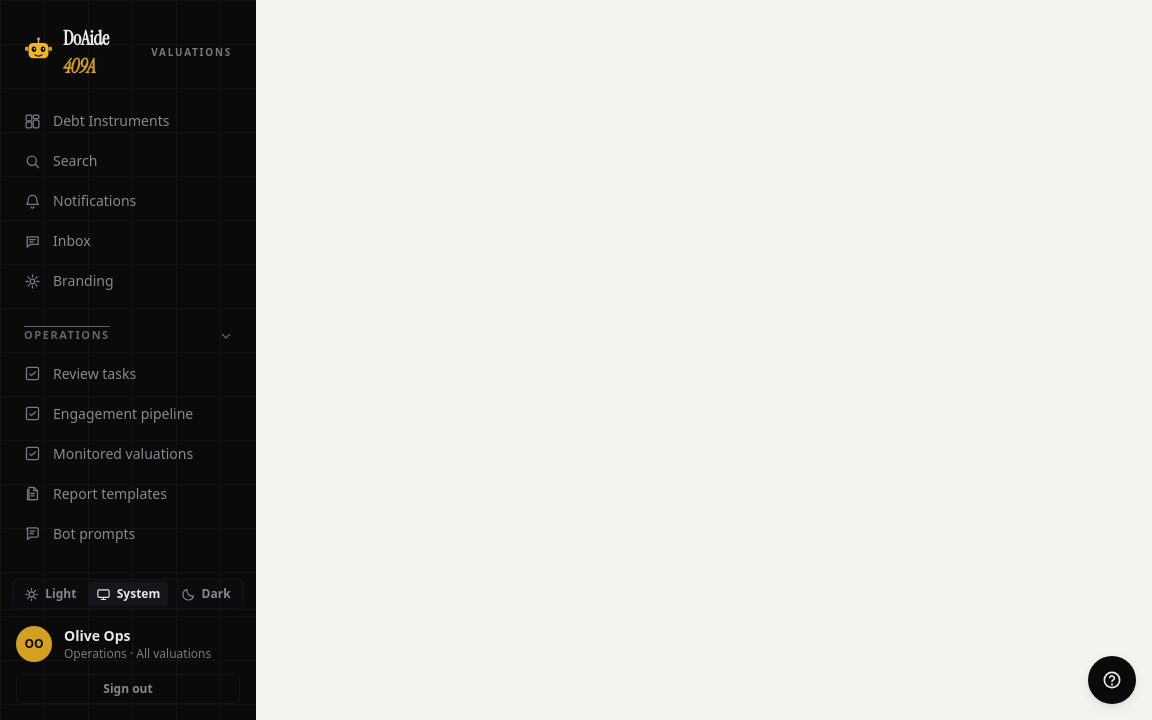
Scenario: collapsible nav groups (§3.3 #1) › ops sections collapse, persist, and re-expand
The width and height of the screenshot is (1152, 720).
(page scrolled)
Expected: the link "Review tasks" is shown, [24,364,136,383]
Click the button "Operations": {"x": 128, "y": 336} [12,327,244,344]
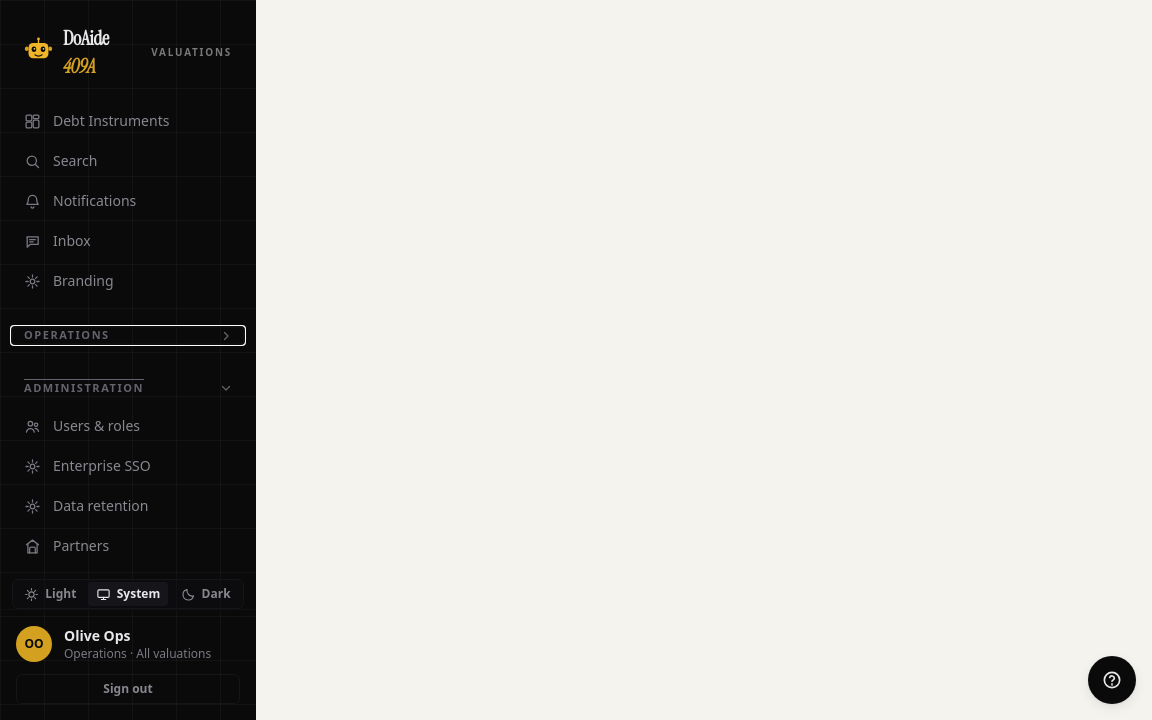
Result: no links "Review tasks" are shown
Result: the link "Users & roles" is shown at [24,416,140,435]
Click the button "Operations": {"x": 128, "y": 336} [12,327,244,344]
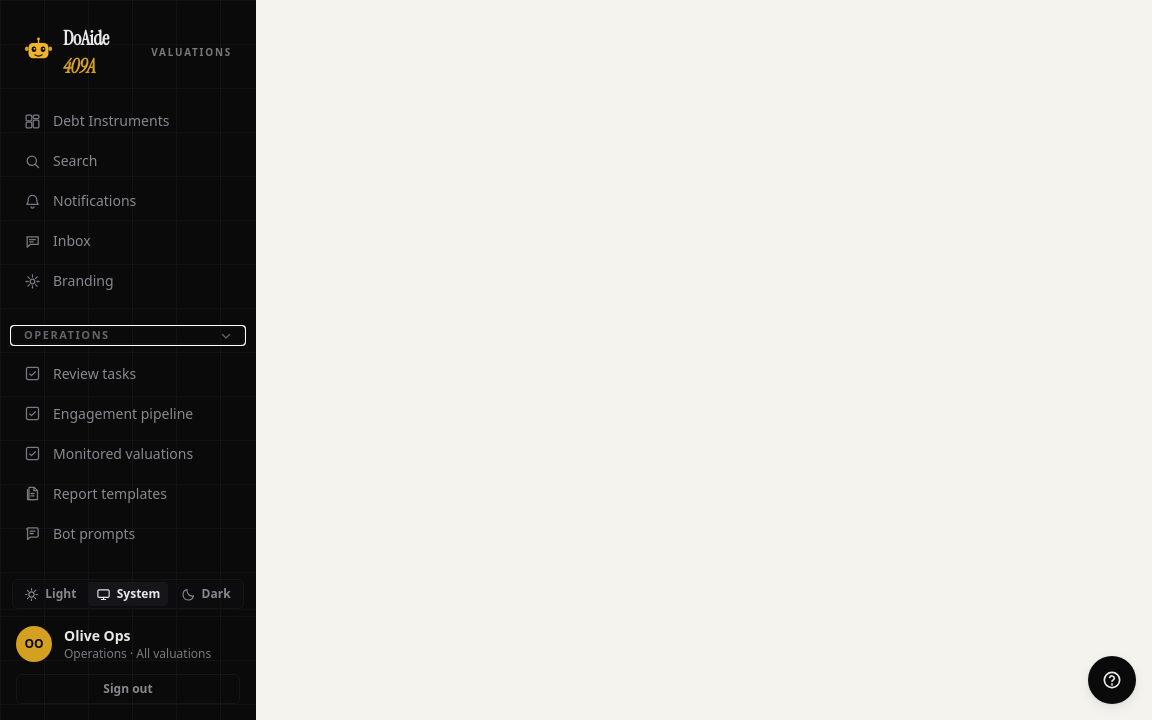
Result: the link "Review tasks" is shown at [24,364,136,383]
